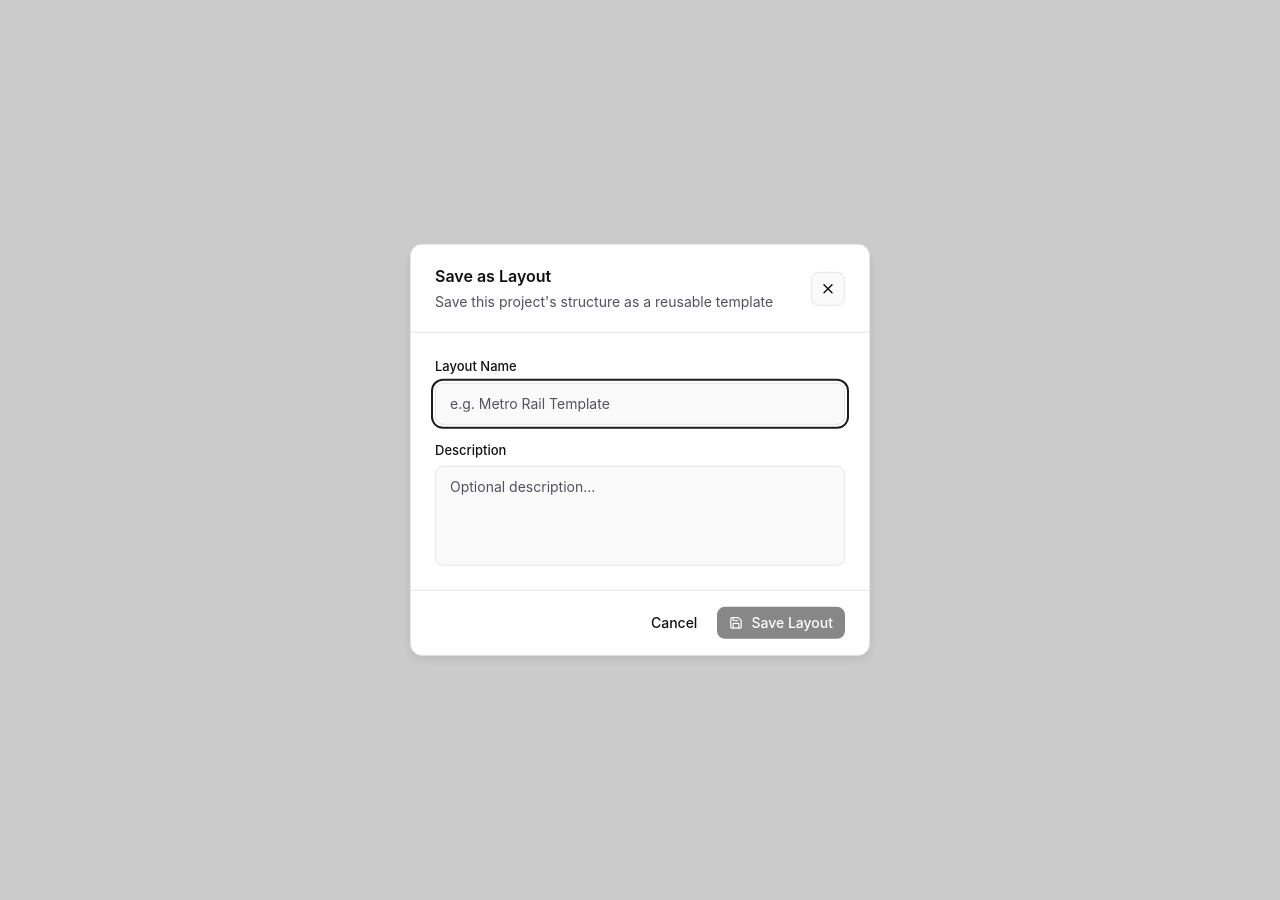
Test: SaveLayoutModal › shows error message on API failure
The image size is (1280, 900).
Step 1. Type "My Layout" into the field labelled "Layout Name" → (640, 404), box x1=435 y1=383 x2=845 y2=425
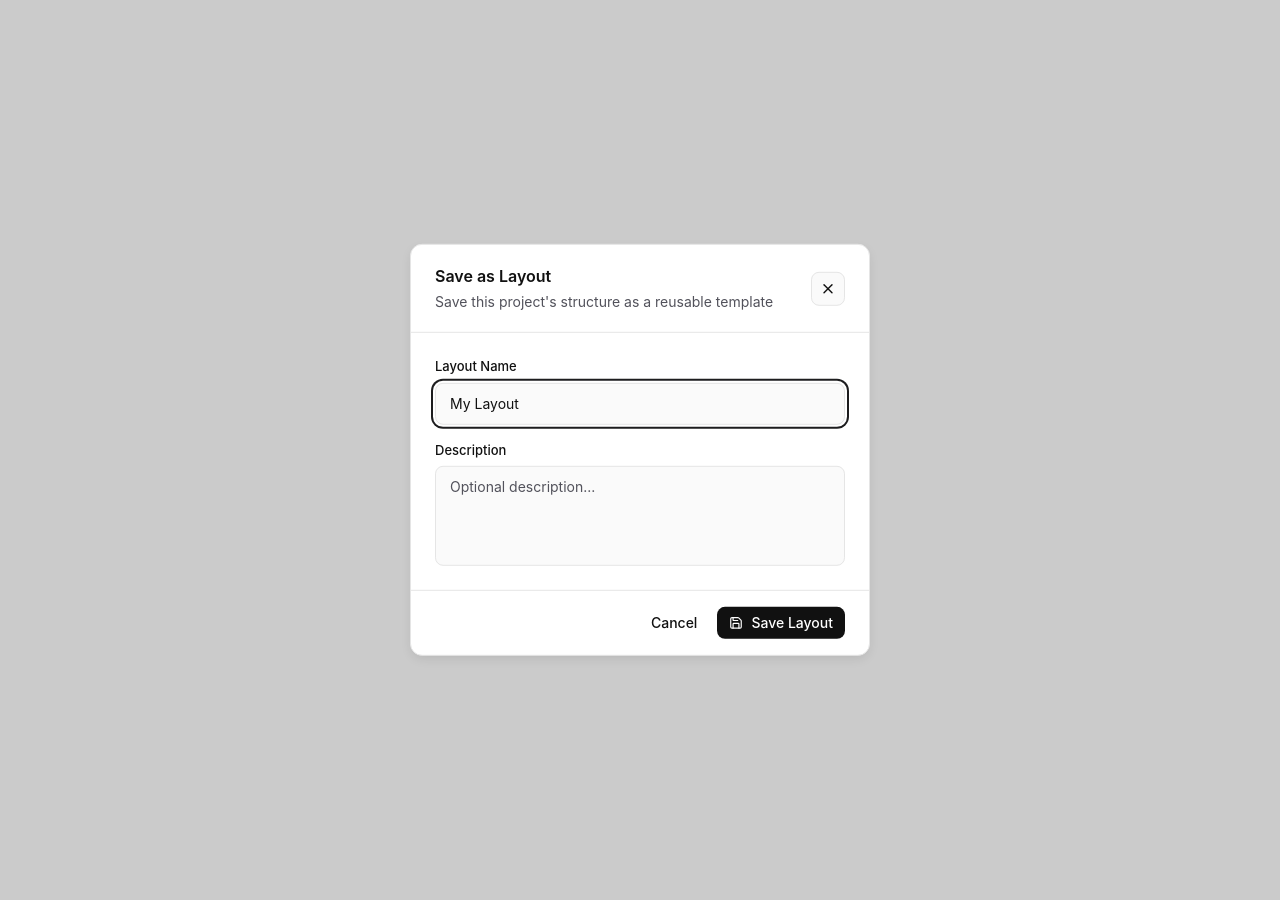
Step 2. Click the button "Save Layout" → (781, 623), box x1=717 y1=607 x2=845 y2=639
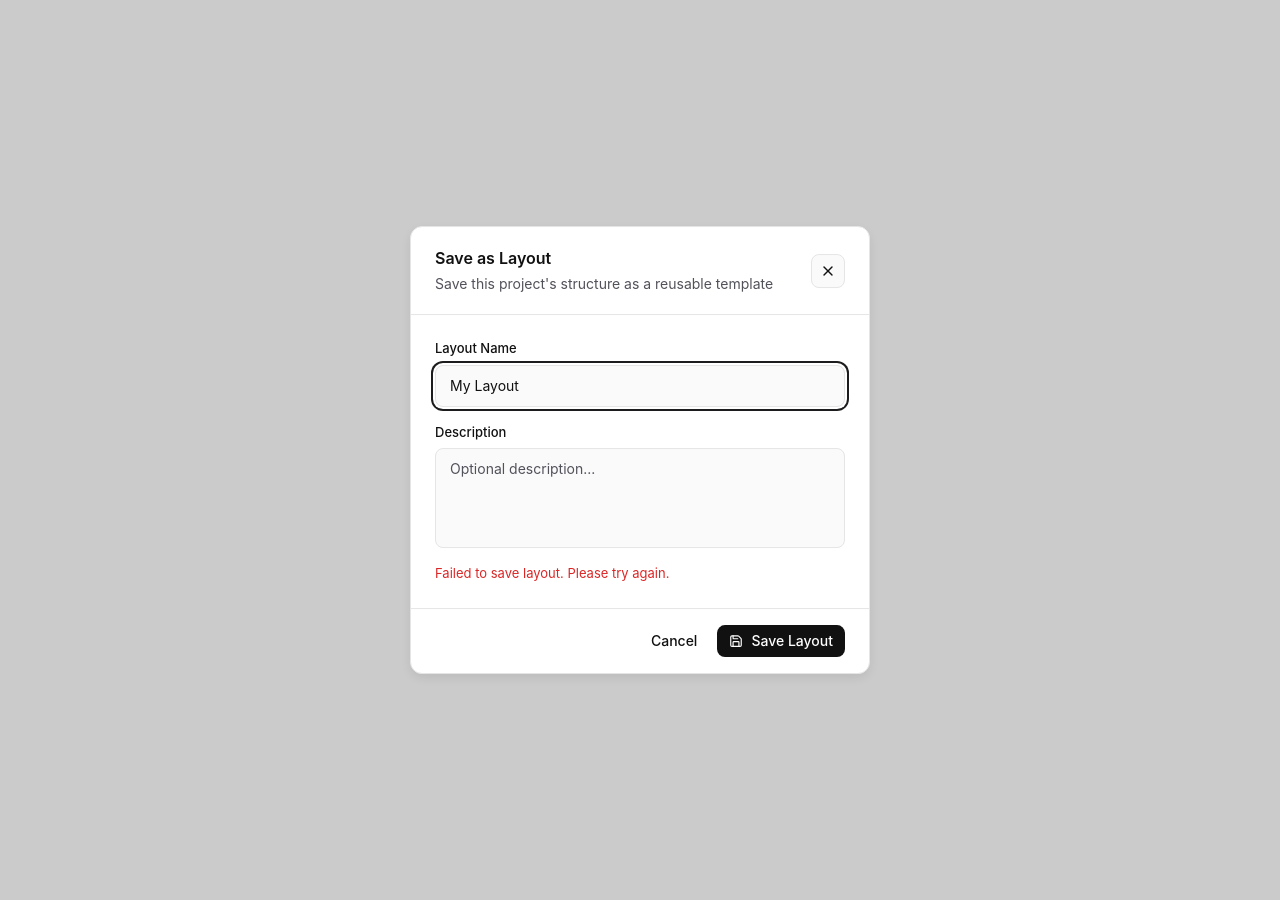
Check: the text "Failed to save layout. Please try again." is shown, box x1=435 y1=565 x2=670 y2=581
